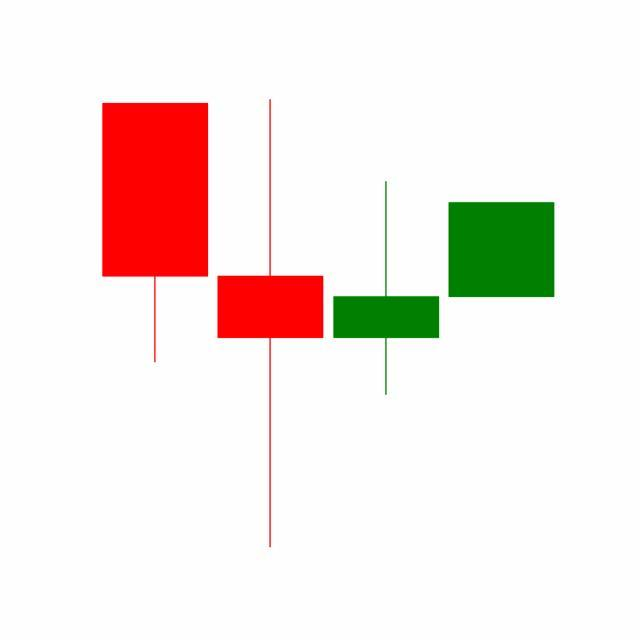Spinning Top: (329, 179, 445, 398)
